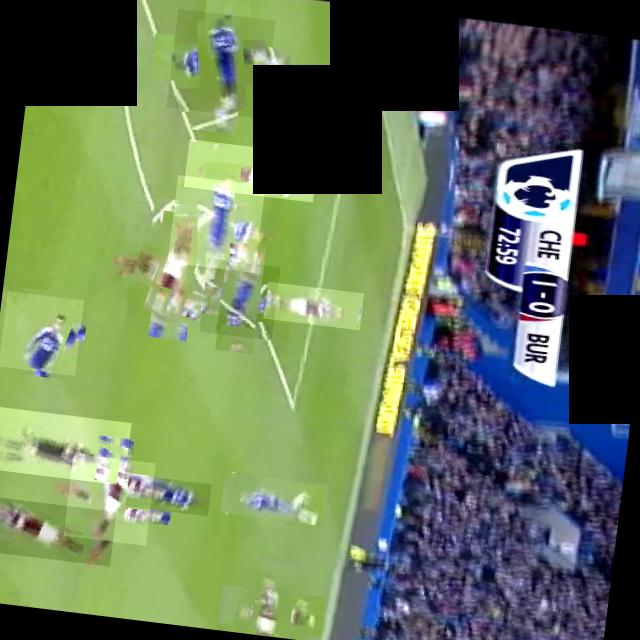referee: (0, 405, 130, 485)
soccer-player: (165, 8, 274, 118), (123, 224, 224, 326), (166, 175, 264, 272), (182, 139, 317, 202), (62, 453, 154, 545), (0, 494, 115, 566), (0, 290, 83, 375), (198, 258, 279, 340), (232, 568, 311, 640), (219, 472, 326, 524), (262, 281, 362, 330), (124, 474, 210, 516)
